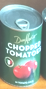tomatoes: (1, 4, 42, 86)
